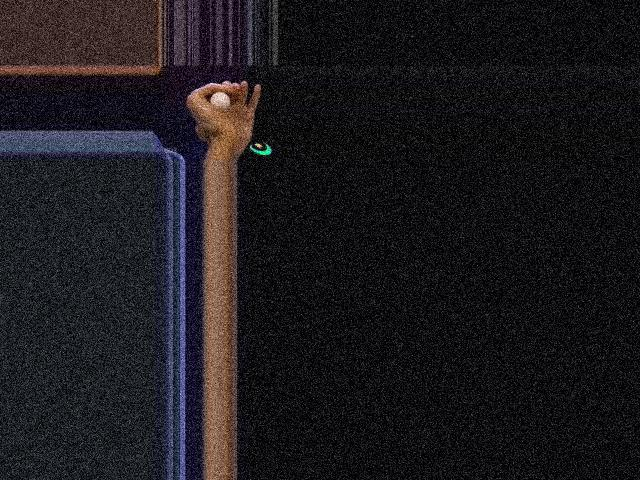egg: (209, 91, 230, 107)
